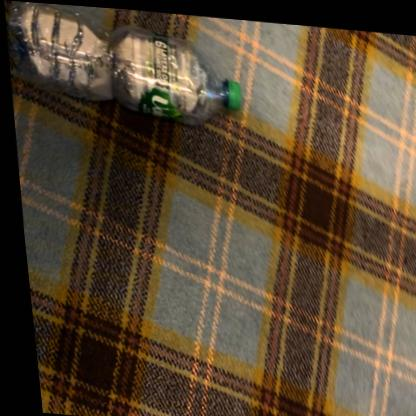Plastic: (6, 1, 239, 121)
